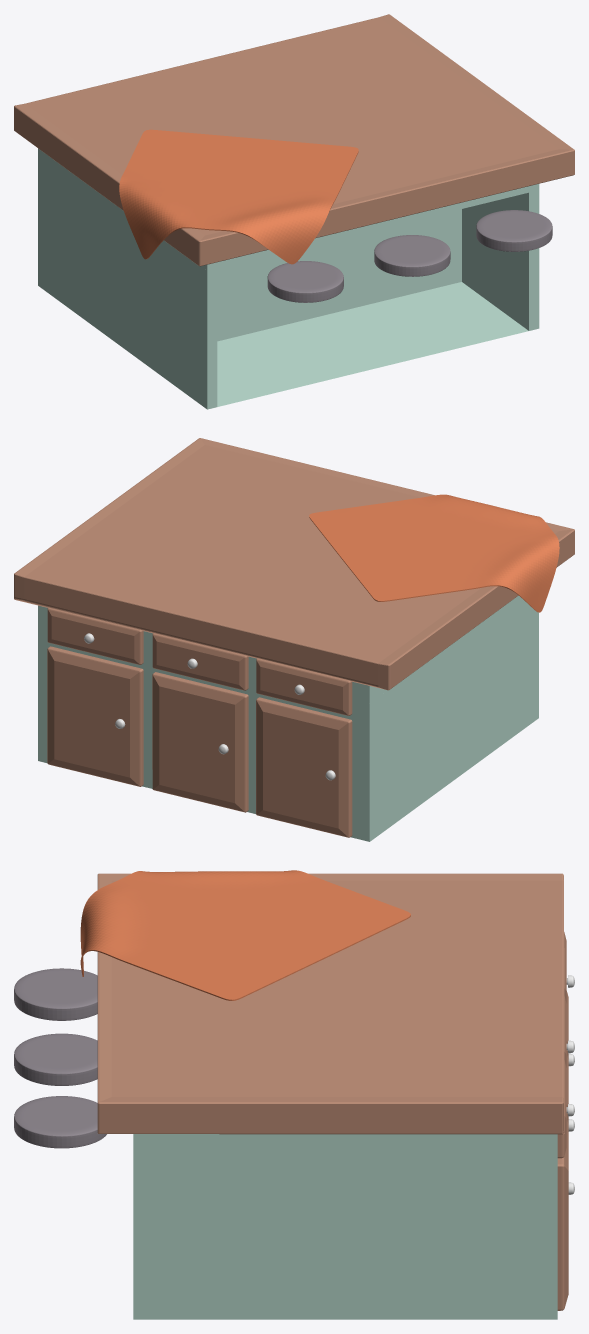
The model's file is isla de cocina.fbx.
The picture shows the model from 3 angles, top to bottom: view 1: azimuth 30°, elevation 25°; view 2: azimuth 150°, elevation 25°; view 3: azimuth 270°, elevation 25°; orthographic projection. The views are drawn at different scales.
Parts seen in each view (by area): view 1: isla de cocina, isla de cocina.001, Plane.003, tabureteasiento; view 2: isla de cocina.001, encimera.001, isla de cocina, Plane.003, POMOS ISLA DE COCINA; view 3: isla de cocina.001, isla de cocina, Plane.003, tabureteasiento, encimera.001.
Part boxes in pixels (x1=…): isla de cocina: x1=38, y1=148, x2=539, y2=409; isla de cocina.001: x1=14, y1=14, x2=574, y2=266; Plane.003: x1=119, y1=129, x2=358, y2=264; tabureteasiento: x1=267, y1=210, x2=552, y2=302; isla de cocina.001: x1=14, y1=438, x2=574, y2=690; encimera.001: x1=47, y1=608, x2=352, y2=837; isla de cocina: x1=38, y1=595, x2=538, y2=841; Plane.003: x1=309, y1=494, x2=559, y2=612; POMOS ISLA DE COCINA: x1=84, y1=633, x2=335, y2=780; isla de cocina.001: x1=97, y1=873, x2=564, y2=1134; isla de cocina: x1=133, y1=1134, x2=557, y2=1319; Plane.003: x1=80, y1=870, x2=410, y2=1000; tabureteasiento: x1=14, y1=968, x2=106, y2=1148; encimera.001: x1=557, y1=932, x2=568, y2=1310.
Size of the model in its own units: 473 by 220 by 470.
